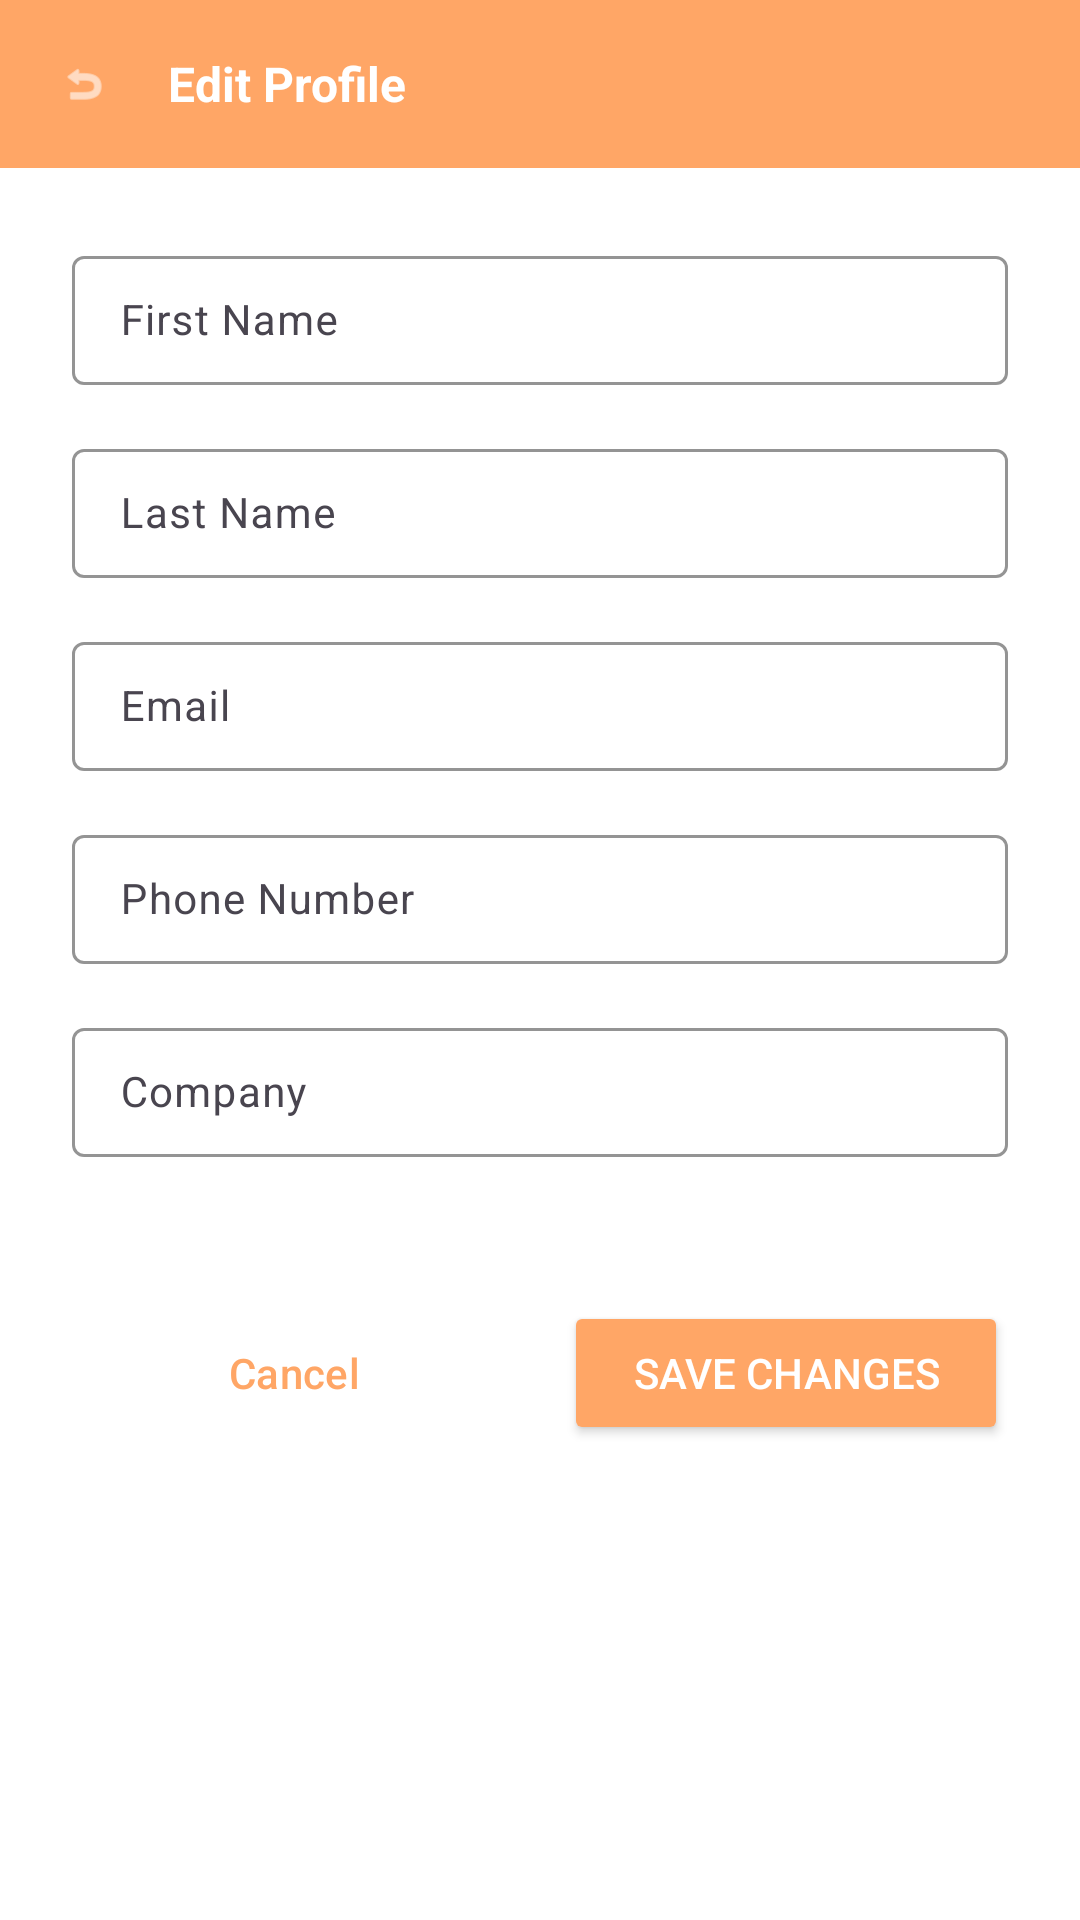

Where icons sit on this 1080px x 1920px app screen, as (x1, y1, x2, y2):
revert: (67, 69, 102, 100)
